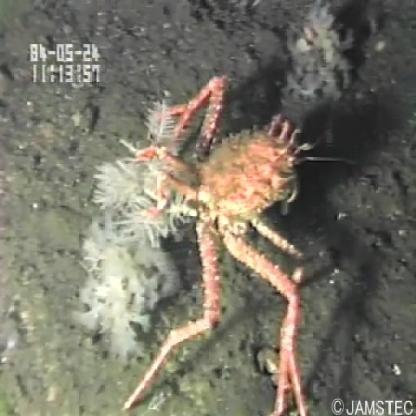Bio: (85, 70, 328, 416)
